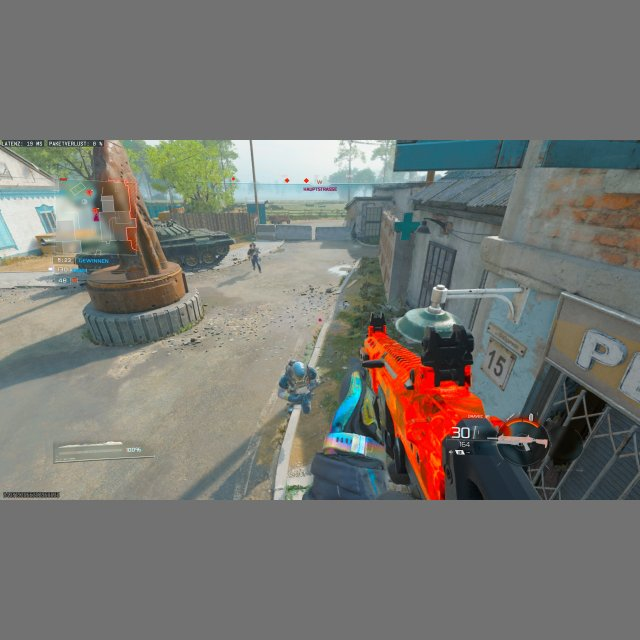head: (249, 242, 255, 248)
player: (277, 360, 320, 419), (247, 243, 262, 273)
